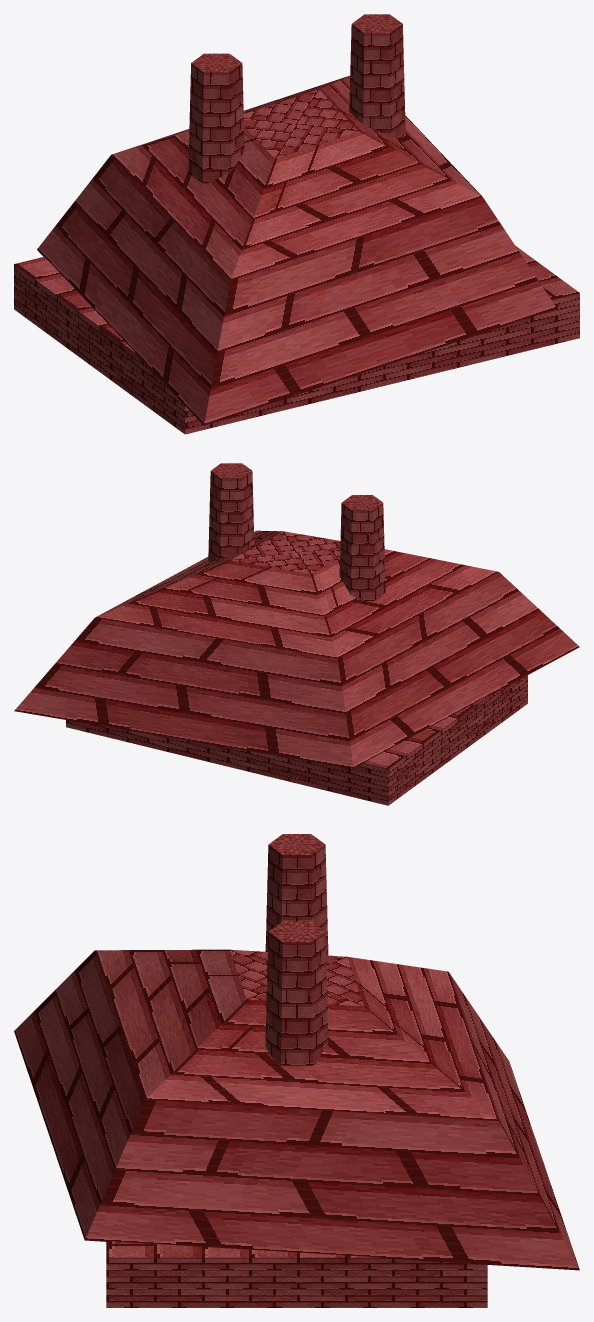
File: telhado_07_quartel.glb
3 renders of one model, top to bottom at view 1: azimuth 30°, elevation 25°; view 2: azimuth 150°, elevation 25°; view 3: azimuth 270°, elevation 25°, orthographic. The views are drawn at different scales.
Parts seen in each view (by area): view 1: telhado_07_quartel; view 2: telhado_07_quartel; view 3: telhado_07_quartel.
Part boxes in pixels (box(x1,y1,x2,y2)): telhado_07_quartel: box(14, 14, 579, 434); telhado_07_quartel: box(14, 463, 579, 805); telhado_07_quartel: box(14, 834, 579, 1307).
Size of the model in its own units: 3.56 by 2.17 by 3.56.
1 material, 1 textured.
